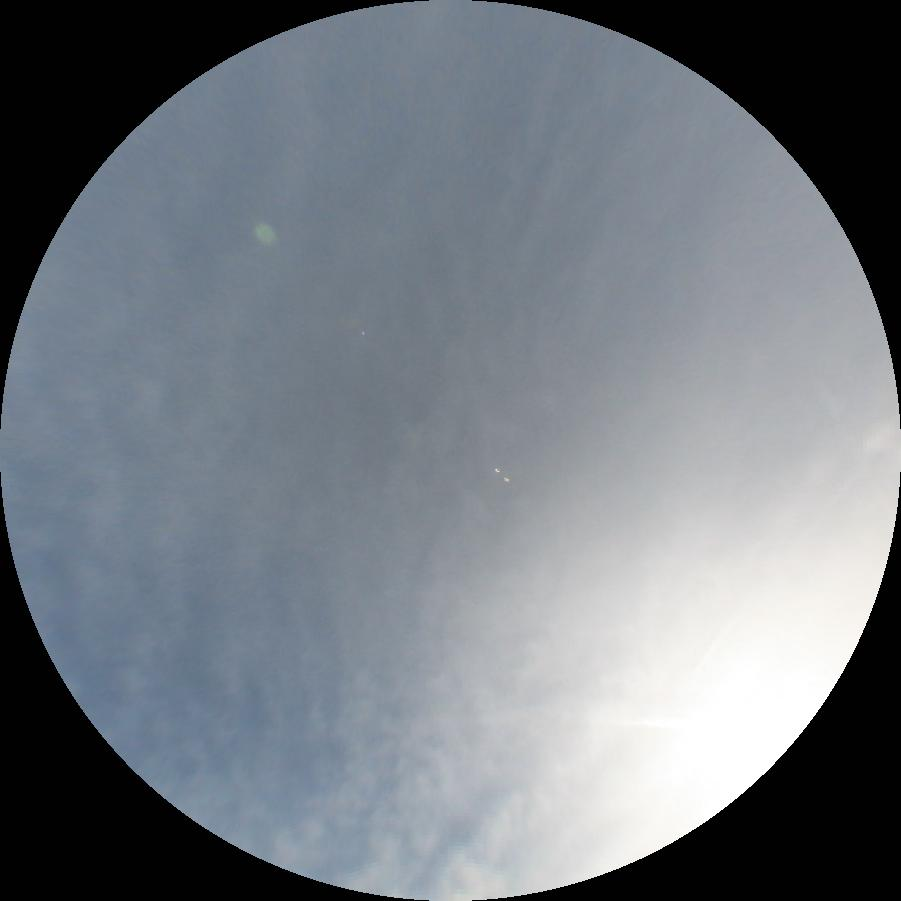contrail old: (665, 614, 740, 713)
contrail veryold: (608, 717, 698, 728)
sun: (663, 627, 858, 832)
